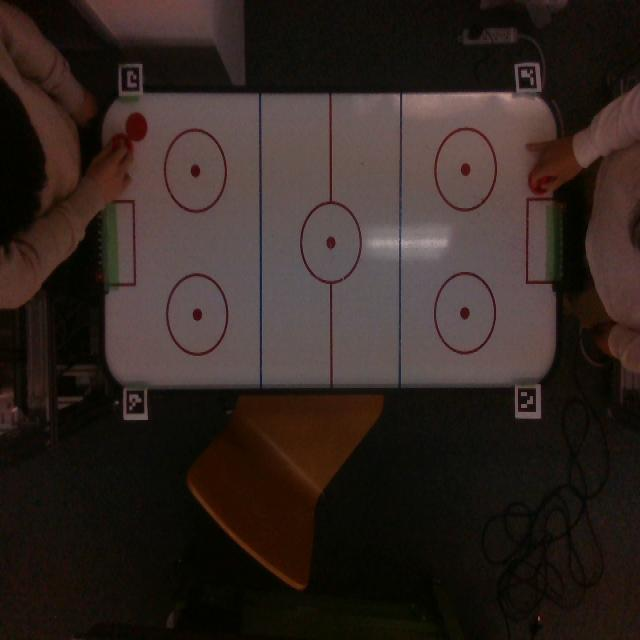puck: (125, 112, 148, 141)
